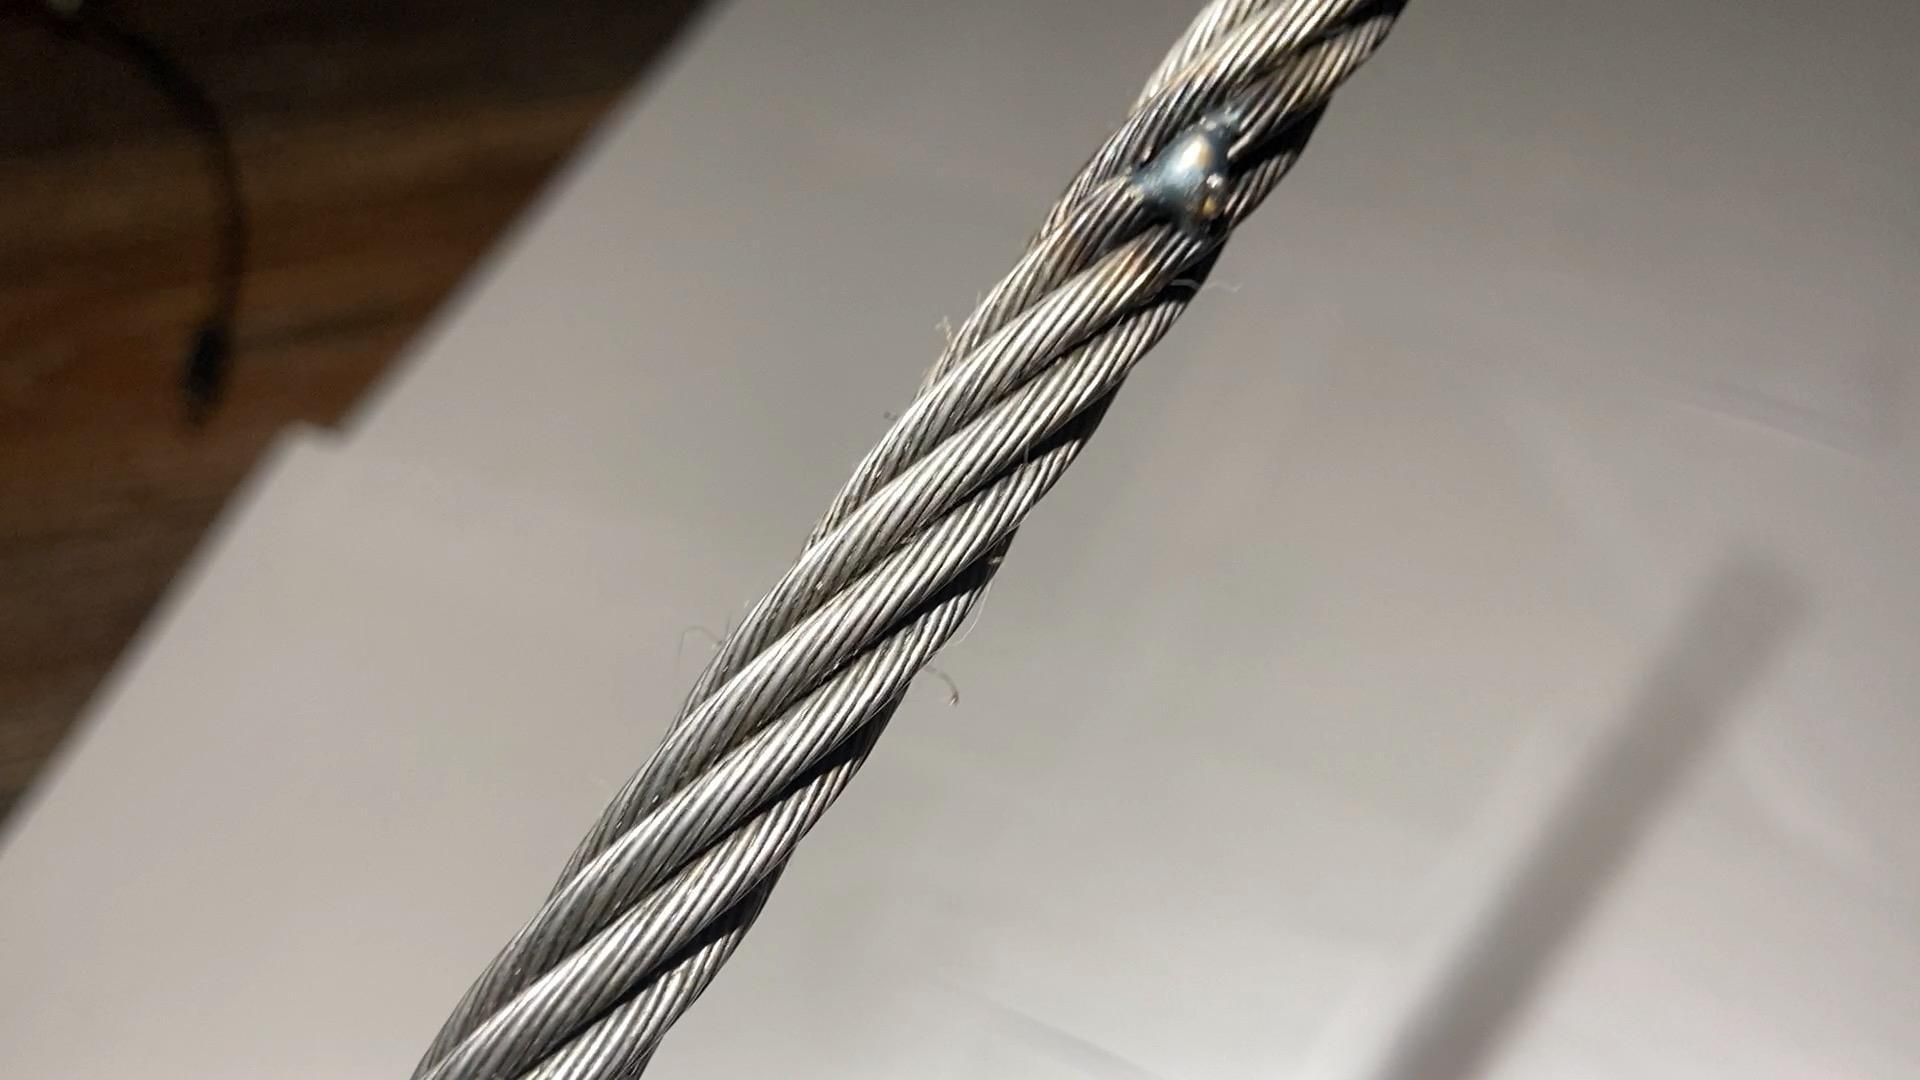thunderbolt: (1131, 83, 1263, 227)
